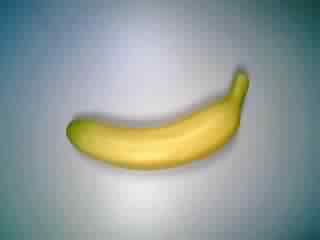banana: (64, 64, 260, 178)
